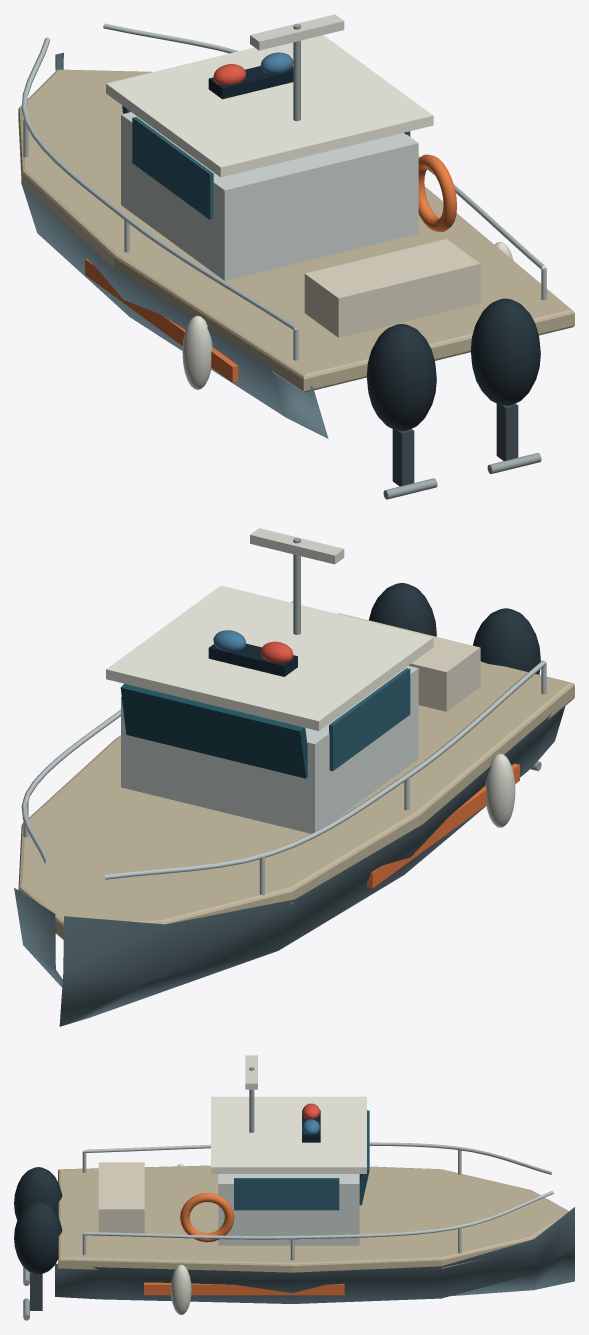
The model's file is patrol.glb.
3 renders of one model, top to bottom at view 1: azimuth 30°, elevation 25°; view 2: azimuth 150°, elevation 25°; view 3: azimuth 270°, elevation 25°, orthographic. The views are drawn at different scales.
Parts seen in each view (by area): view 1: Deck, Cabin, Roof, OutboardAssembly, SternSeat, VHull, SafetyRailAssembly, SideWindowAssembly, EngineLegAssembly, FenderAssembly, LifeRing, HullStripeAssembly (+4 smaller); view 2: Deck, VHull, Roof, Cabin, Windshield, OutboardAssembly, SafetyRailAssembly, SideWindowAssembly, SternSeat, FenderAssembly, HullStripeAssembly, Radar (+2 smaller); view 3: Deck, VHull, Roof, Cabin, OutboardAssembly, SafetyRailAssembly, SideWindowAssembly, SternSeat, HullStripeAssembly, LifeRing, FenderAssembly, EngineLegAssembly (+2 smaller).
Boxes of the visible parts, x1,y1,x2,y2 form: Deck: (18,69,574,392); Cabin: (121,112,418,280); Roof: (106,35,433,177); OutboardAssembly: (366,298,540,431); SternSeat: (304,239,480,337); VHull: (21,52,328,438); SafetyRailAssembly: (21,23,546,360); SideWindowAssembly: (132,117,410,219); EngineLegAssembly: (392,403,518,486); FenderAssembly: (182,242,513,389); LifeRing: (418,154,456,231); HullStripeAssembly: (85,259,238,382); Deck: (18,661,574,939); VHull: (14,706,565,1026); Roof: (106,585,433,730); Cabin: (121,665,418,833); Windshield: (120,683,307,778); OutboardAssembly: (369,583,540,674); SafetyRailAssembly: (21,601,546,895); SideWindowAssembly: (329,668,410,771); SternSeat: (337,613,480,711); FenderAssembly: (485,753,515,827); HullStripeAssembly: (367,763,519,888); Radar: (250,528,344,564); Deck: (58,1165,568,1272); VHull: (55,1207,574,1303); Roof: (211,1096,366,1173); Cabin: (218,1174,359,1245); OutboardAssembly: (14,1167,62,1274); SafetyRailAssembly: (82,1142,553,1260); SideWindowAssembly: (234,1178,339,1210); SternSeat: (98,1162,144,1236); HullStripeAssembly: (144,1282,344,1295); LifeRing: (180,1193,234,1242); FenderAssembly: (170,1164,191,1314); EngineLegAssembly: (30,1272,42,1310).
Size of the model in its own units: 3.48 by 3.4 by 7.55.
